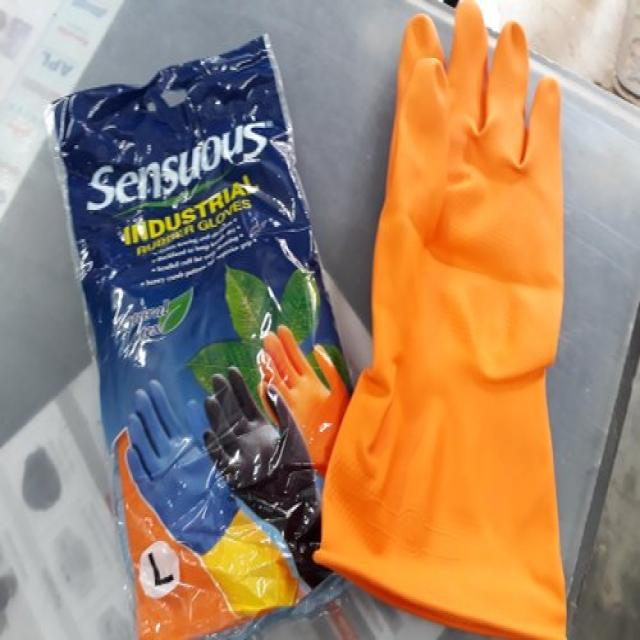gloves: (311, 3, 570, 640)
